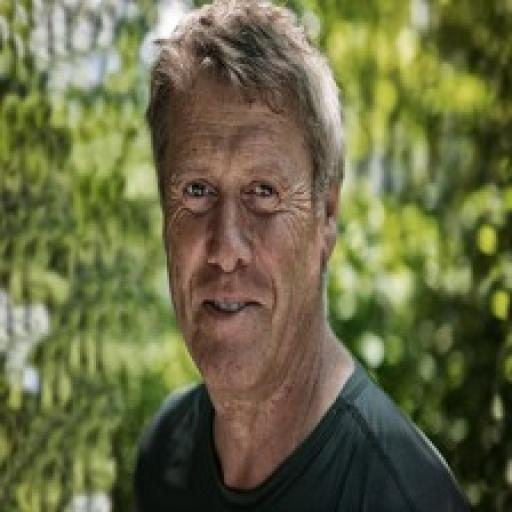human: (101, 0, 505, 512)
